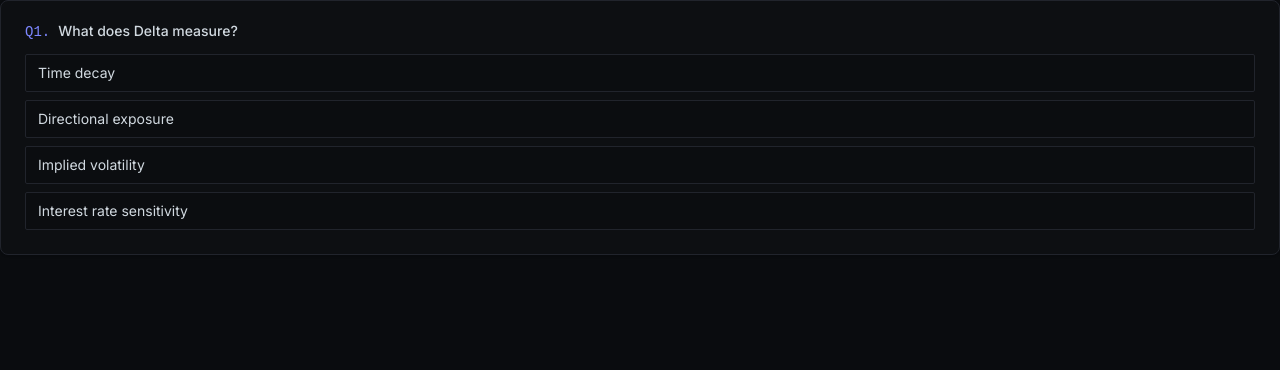
Test: QuizCard › selecting a wrong option still shows the explanation, never fabricating a correct pick
The width and height of the screenshot is (1280, 370).
Step 1. Click the button with test id "quiz-card-0-option-0" → (77, 72), box [25,54,1255,92]
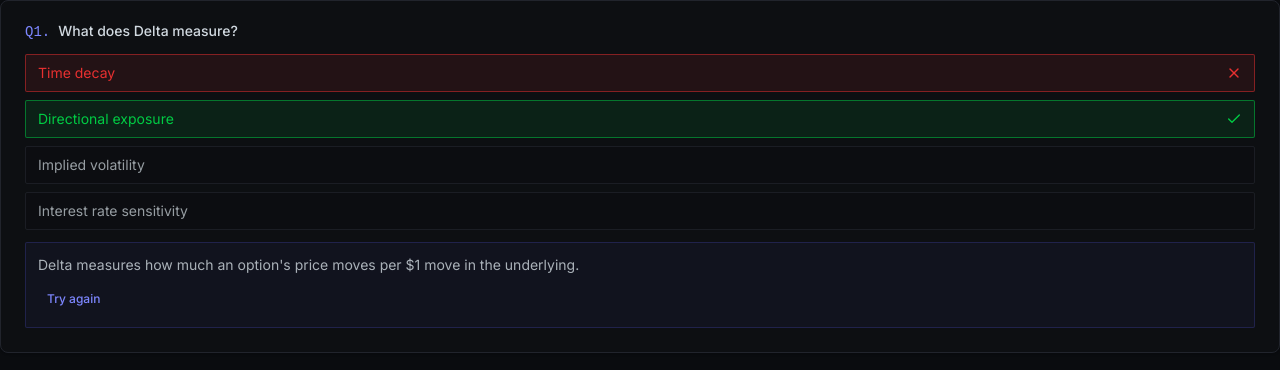
Expected: the button with test id "quiz-card-0-option-1" is shown, [25,100,1255,138]
Expected: the element with test id "quiz-card-0-explanation" is shown, [25,242,1255,328]
